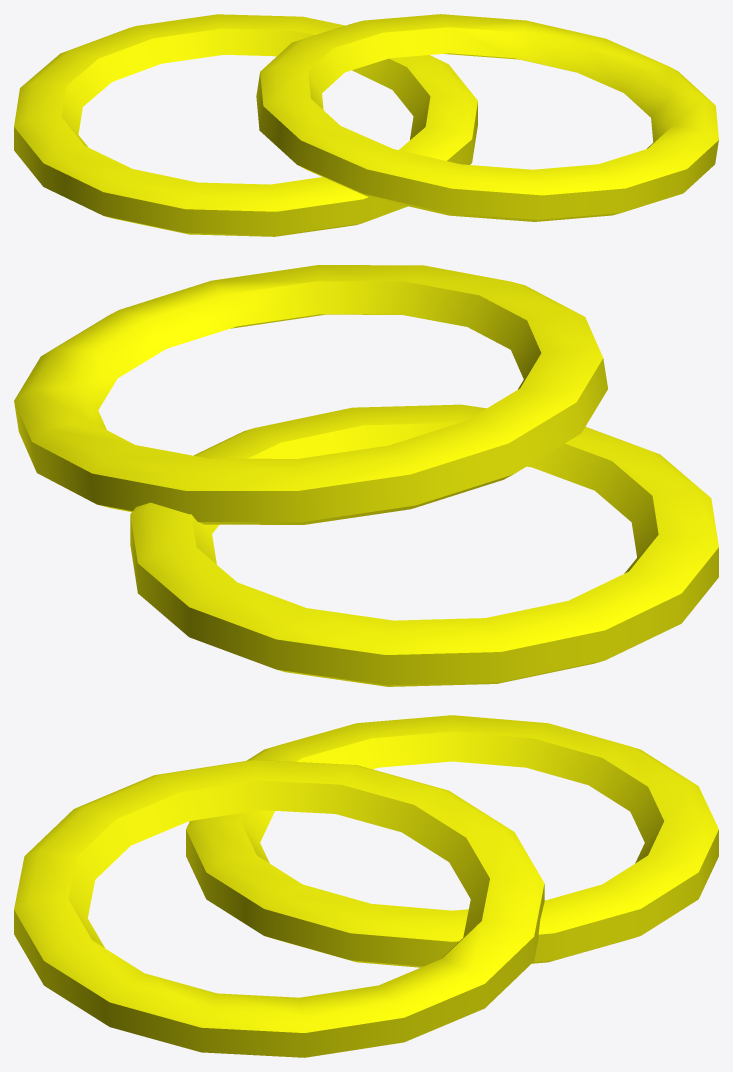
File: food_ingredient_onion_rings.gltf
3 renders of one model, top to bottom at view 1: azimuth 30°, elevation 25°; view 2: azimuth 150°, elevation 25°; view 3: azimuth 270°, elevation 25°, orthographic. The views are drawn at different scales.
Visible parts, largest first — view 1: food_ingredient_onion_rings; view 2: food_ingredient_onion_rings; view 3: food_ingredient_onion_rings.
Boxes of the visible parts, box(x1,y1,x2,y2) form: food_ingredient_onion_rings: box(14, 14, 718, 236); food_ingredient_onion_rings: box(14, 265, 718, 686); food_ingredient_onion_rings: box(14, 715, 718, 1057).
Size of the model in its own units: 0.7758 by 0.1064 by 0.7296.
Materials: 1 (1 with a texture image).
